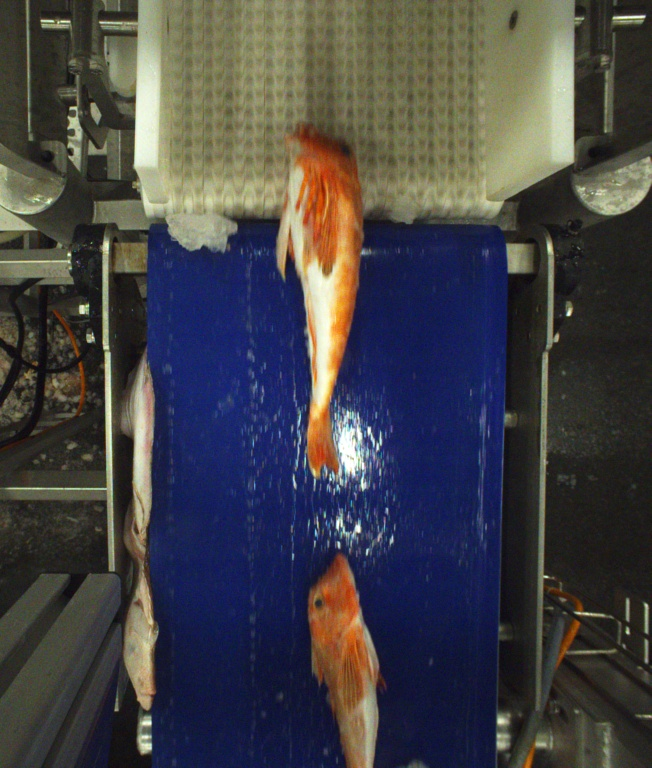GUU: (275, 124, 369, 477)
